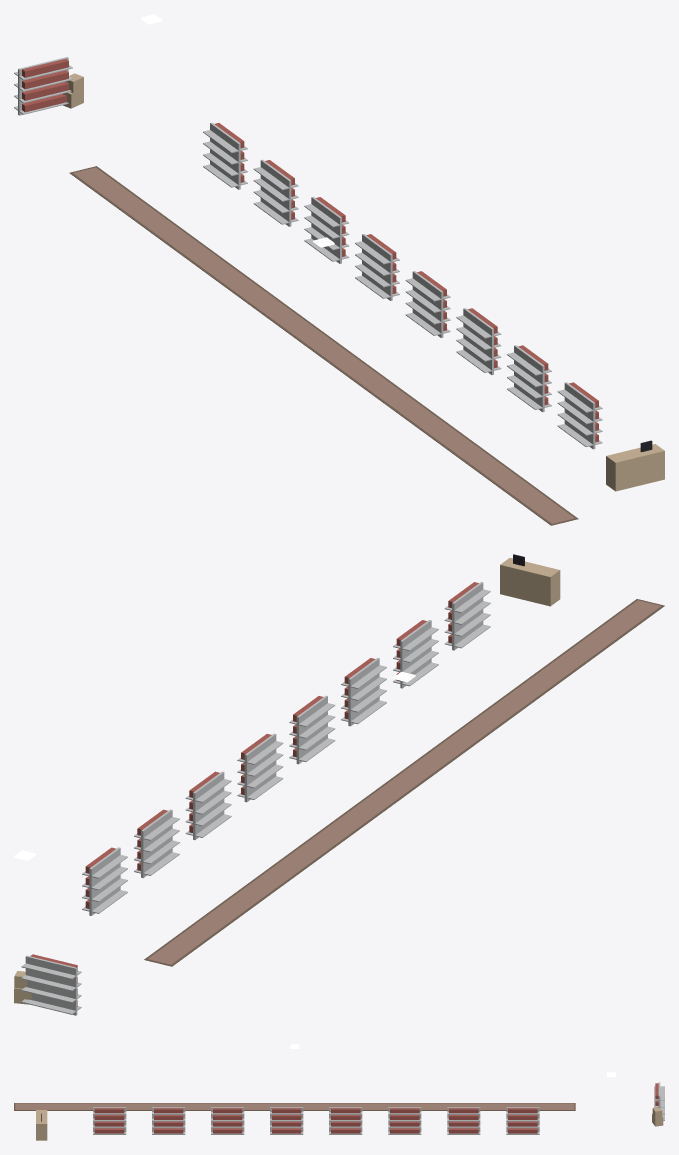
File: fine-s0.glb
The picture shows the model from 3 angles, top to bottom: view 1: azimuth 30°, elevation 25°; view 2: azimuth 150°, elevation 25°; view 3: azimuth 270°, elevation 25°; orthographic projection. The views are drawn at different scales.
Visible parts, largest first — view 1: soft-s0, shelving.000, shop-counter.000, shelf.001, shelf.007, shelf.004, shelf.005, shelf.000, shelf.003, shelf.006, shelf.002; view 2: soft-s0, shelving.000, shop-counter.000, shelf.003, shelf.007, shelf.005, shelf.000, shelf.002, shelf.001, shelf.004, shelf.006; view 3: soft-s0, shelf.000, shelf.001, shelf.002, shelf.003, shelf.004, shelf.005, shelf.006, shelf.007, shop-counter.000, shelving.000, cardboard-box.000.
Part boxes in pixels (<box>): soft-s0: <box>69,166,578,525</box>; shelving.000: <box>14,57,72,115</box>; shop-counter.000: <box>606,440,664,491</box>; shelf.001: <box>253,159,298,226</box>; shelf.007: <box>557,382,602,449</box>; shelf.004: <box>405,271,450,337</box>; shelf.005: <box>456,308,501,374</box>; shelf.000: <box>203,122,247,189</box>; shelf.003: <box>355,234,399,300</box>; shelf.006: <box>507,345,551,412</box>; shelf.002: <box>304,197,349,263</box>; soft-s0: <box>144,599,664,966</box>; shelving.000: <box>21,954,81,1015</box>; shop-counter.000: <box>500,554,560,606</box>; shelf.003: <box>237,733,283,802</box>; shelf.007: <box>444,582,490,650</box>; shelf.005: <box>341,657,386,726</box>; shelf.000: <box>82,847,127,915</box>; shelf.002: <box>185,771,231,839</box>; shelf.001: <box>134,809,179,878</box>; shelf.004: <box>289,695,335,764</box>; shelf.006: <box>393,620,438,688</box>; soft-s0: <box>14,1103,575,1110</box>; shelf.000: <box>506,1107,539,1134</box>; shelf.001: <box>447,1107,480,1134</box>; shelf.002: <box>388,1107,421,1134</box>; shelf.003: <box>329,1107,362,1134</box>; shelf.004: <box>270,1107,303,1134</box>; shelf.005: <box>211,1107,244,1134</box>; shelf.006: <box>152,1107,185,1134</box>; shelf.007: <box>93,1107,126,1134</box>; shop-counter.000: <box>36,1110,47,1140</box>; shelving.000: <box>654,1082,664,1120</box>; cardboard-box.000: <box>652,1107,663,1126</box>.
Bounding box in the file's own units: 4.84 × 3.64 × 35.28.
